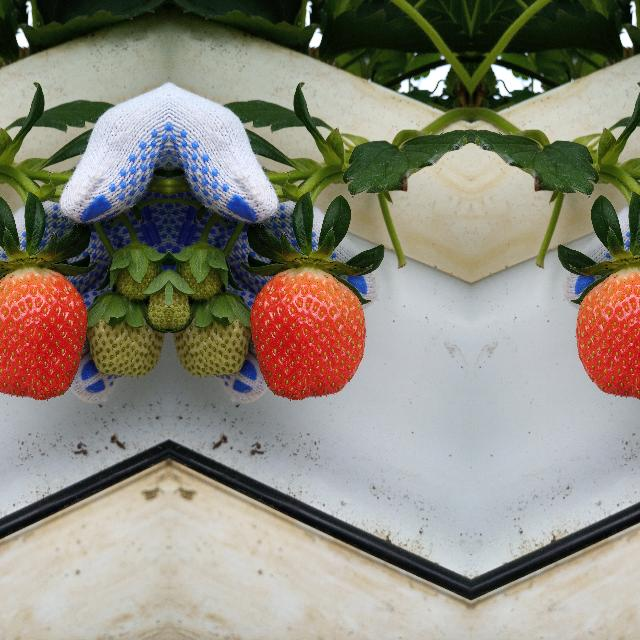Health_100: (248, 266, 366, 399), (0, 266, 88, 399), (575, 266, 640, 399)
Health_25: (178, 304, 245, 386), (92, 304, 158, 386)
